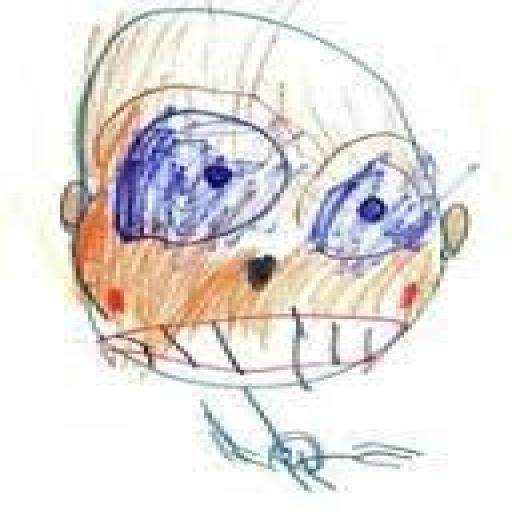person: (49, 0, 479, 497)
